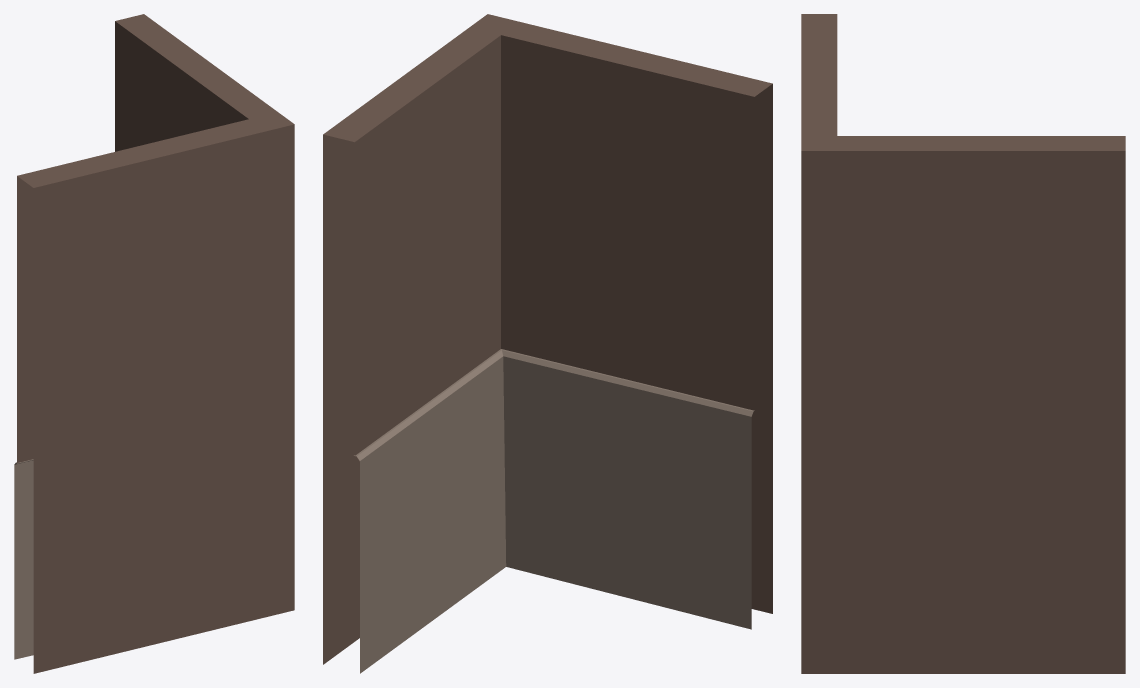
Rendered from pared_esq_inf_der.fbx.
The picture shows the model from 3 angles, left to right: view 1: azimuth 30°, elevation 25°; view 2: azimuth 150°, elevation 25°; view 3: azimuth 270°, elevation 25°; orthographic projection. The views are drawn at different scales.
Parts seen in each view (by area): view 1: pared_esq__base, pared_esq__zocalo1; view 2: pared_esq__base, pared_esq__zocalo1; view 3: pared_esq__base.
Part boxes in pixels (left/top/right/bottom): pared_esq__base: left=17, top=14, right=294, bottom=673; pared_esq__zocalo1: left=14, top=459, right=33, bottom=659; pared_esq__base: left=323, top=14, right=772, bottom=664; pared_esq__zocalo1: left=354, top=349, right=754, bottom=673; pared_esq__base: left=801, top=14, right=1125, bottom=673.
Bounding box in the file's own units: 112 × 200 × 112.
